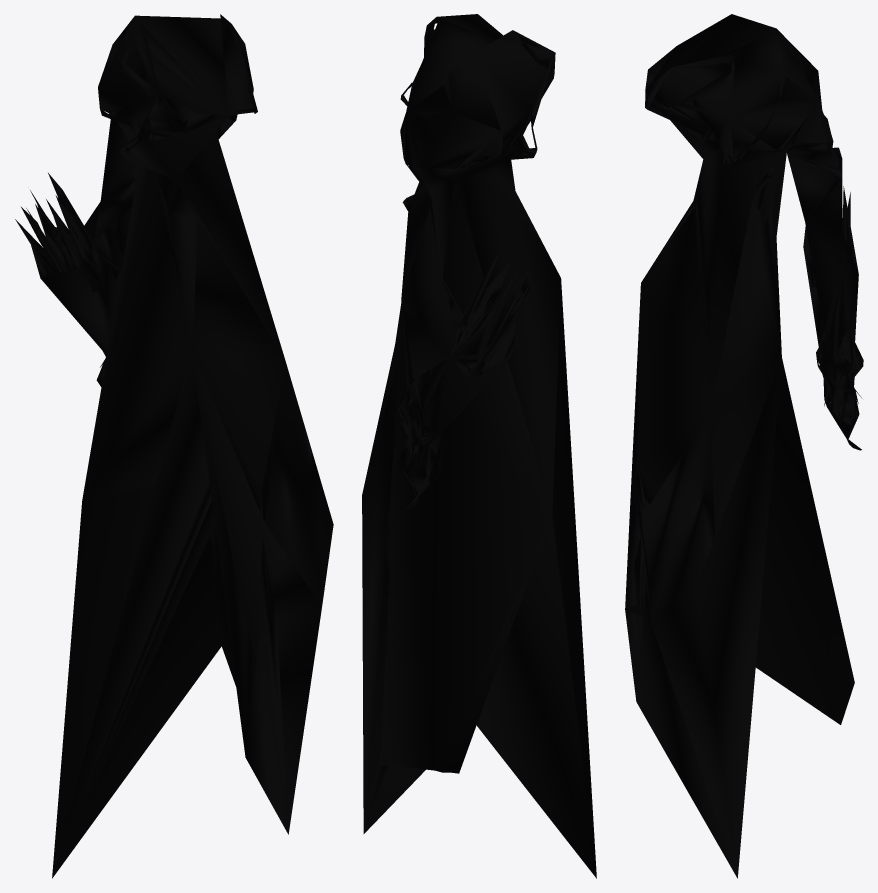
File: devi_lod.glb
The picture shows the model from 3 angles, left to right: view 1: azimuth 30°, elevation 25°; view 2: azimuth 150°, elevation 25°; view 3: azimuth 270°, elevation 25°; orthographic projection. The views are drawn at different scales.
Parts seen in each view (by area): view 1: titus; view 2: titus; view 3: titus.
Boxes of the visible parts, left/top/right/bottom form: titus: left=15, top=14, right=333, bottom=878; titus: left=362, top=14, right=596, bottom=878; titus: left=625, top=14, right=863, bottom=878.
Bounding box in the file's own units: 0.5198 × 1.62 × 0.4396.
2 materials, 2 textured.
